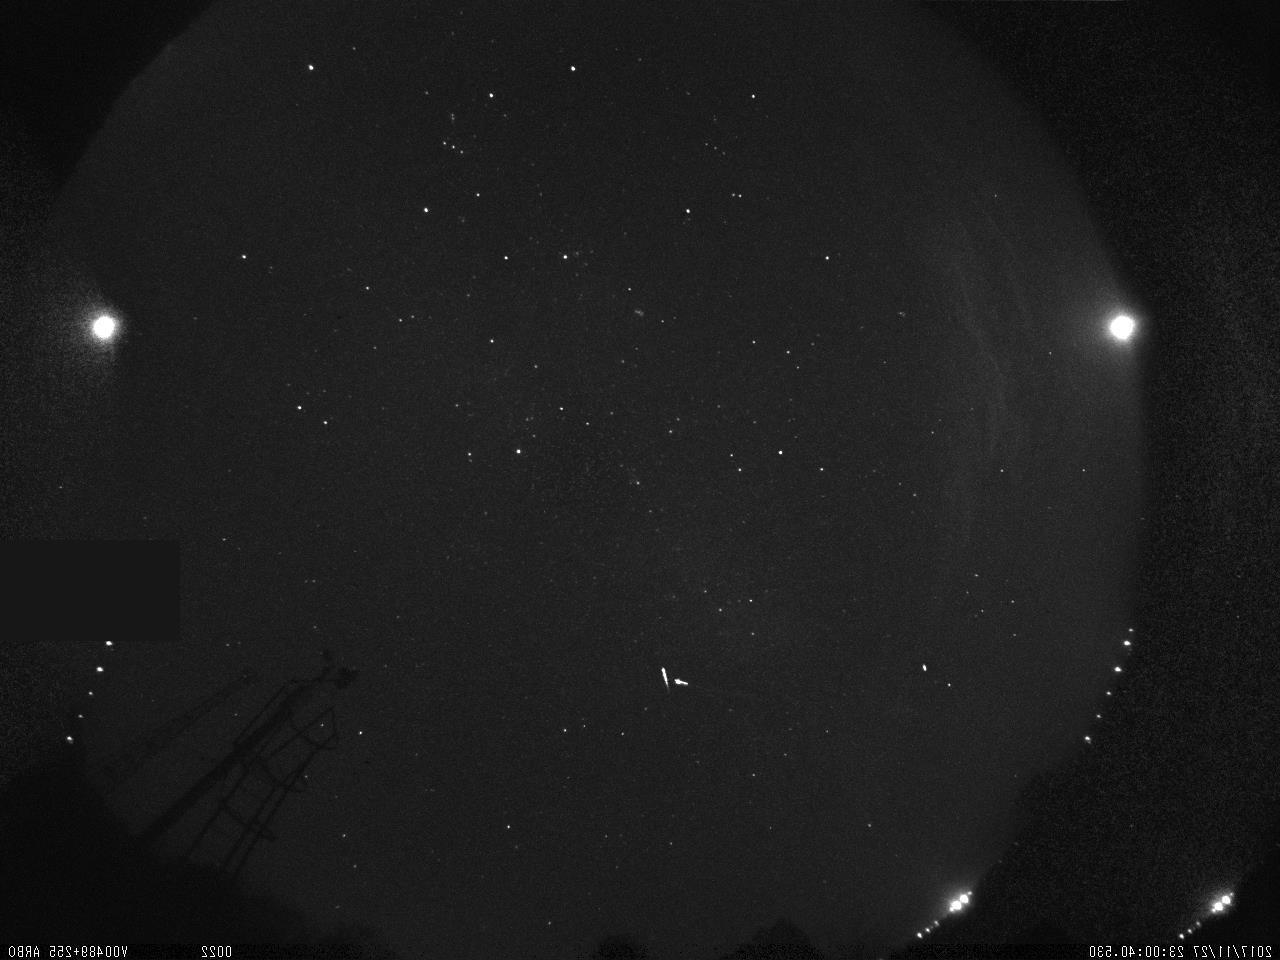meteor: (645, 653, 673, 698)
